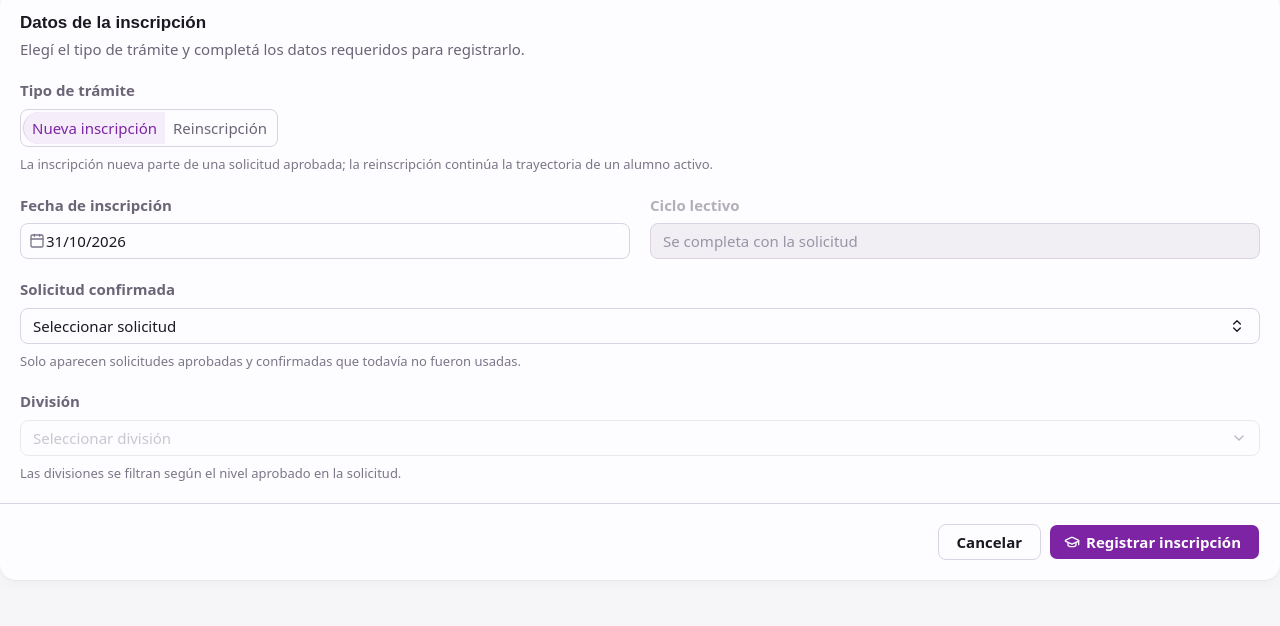
Scenario: FormularioInscripcion › muestra los campos propios de una reinscripción al cambiar el tipo
Click the radio button labelled "Reinscripción". click: (220, 128)
box: [165,112,275,144]
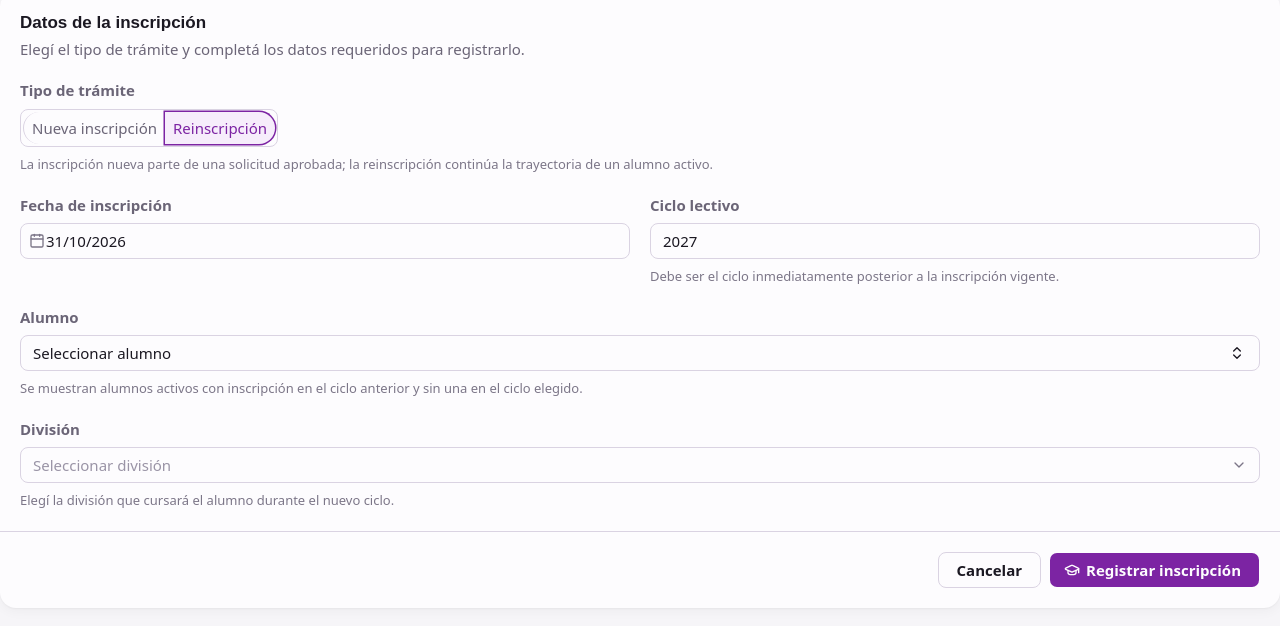
Check: the field labelled "Ciclo lectivo" is enabled, box [650,223,1260,259]
Check: the dropdown labelled "alumno" is shown, box [20,335,1260,371]
Check: the label "Solicitud confirmada" is gone
